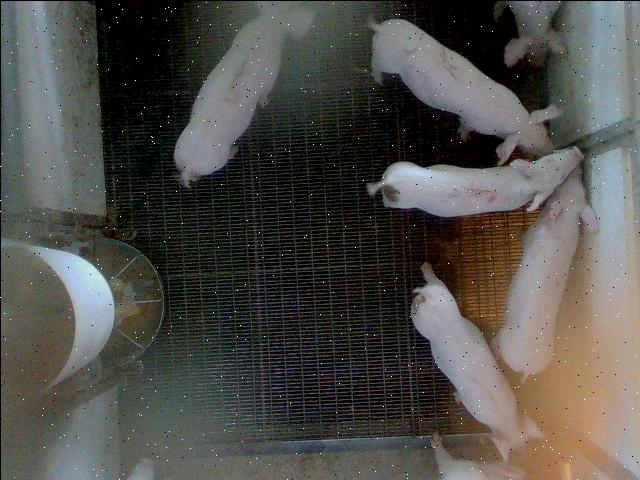pig-3: (174, 0, 314, 184)
pig-5: (366, 146, 582, 216)
